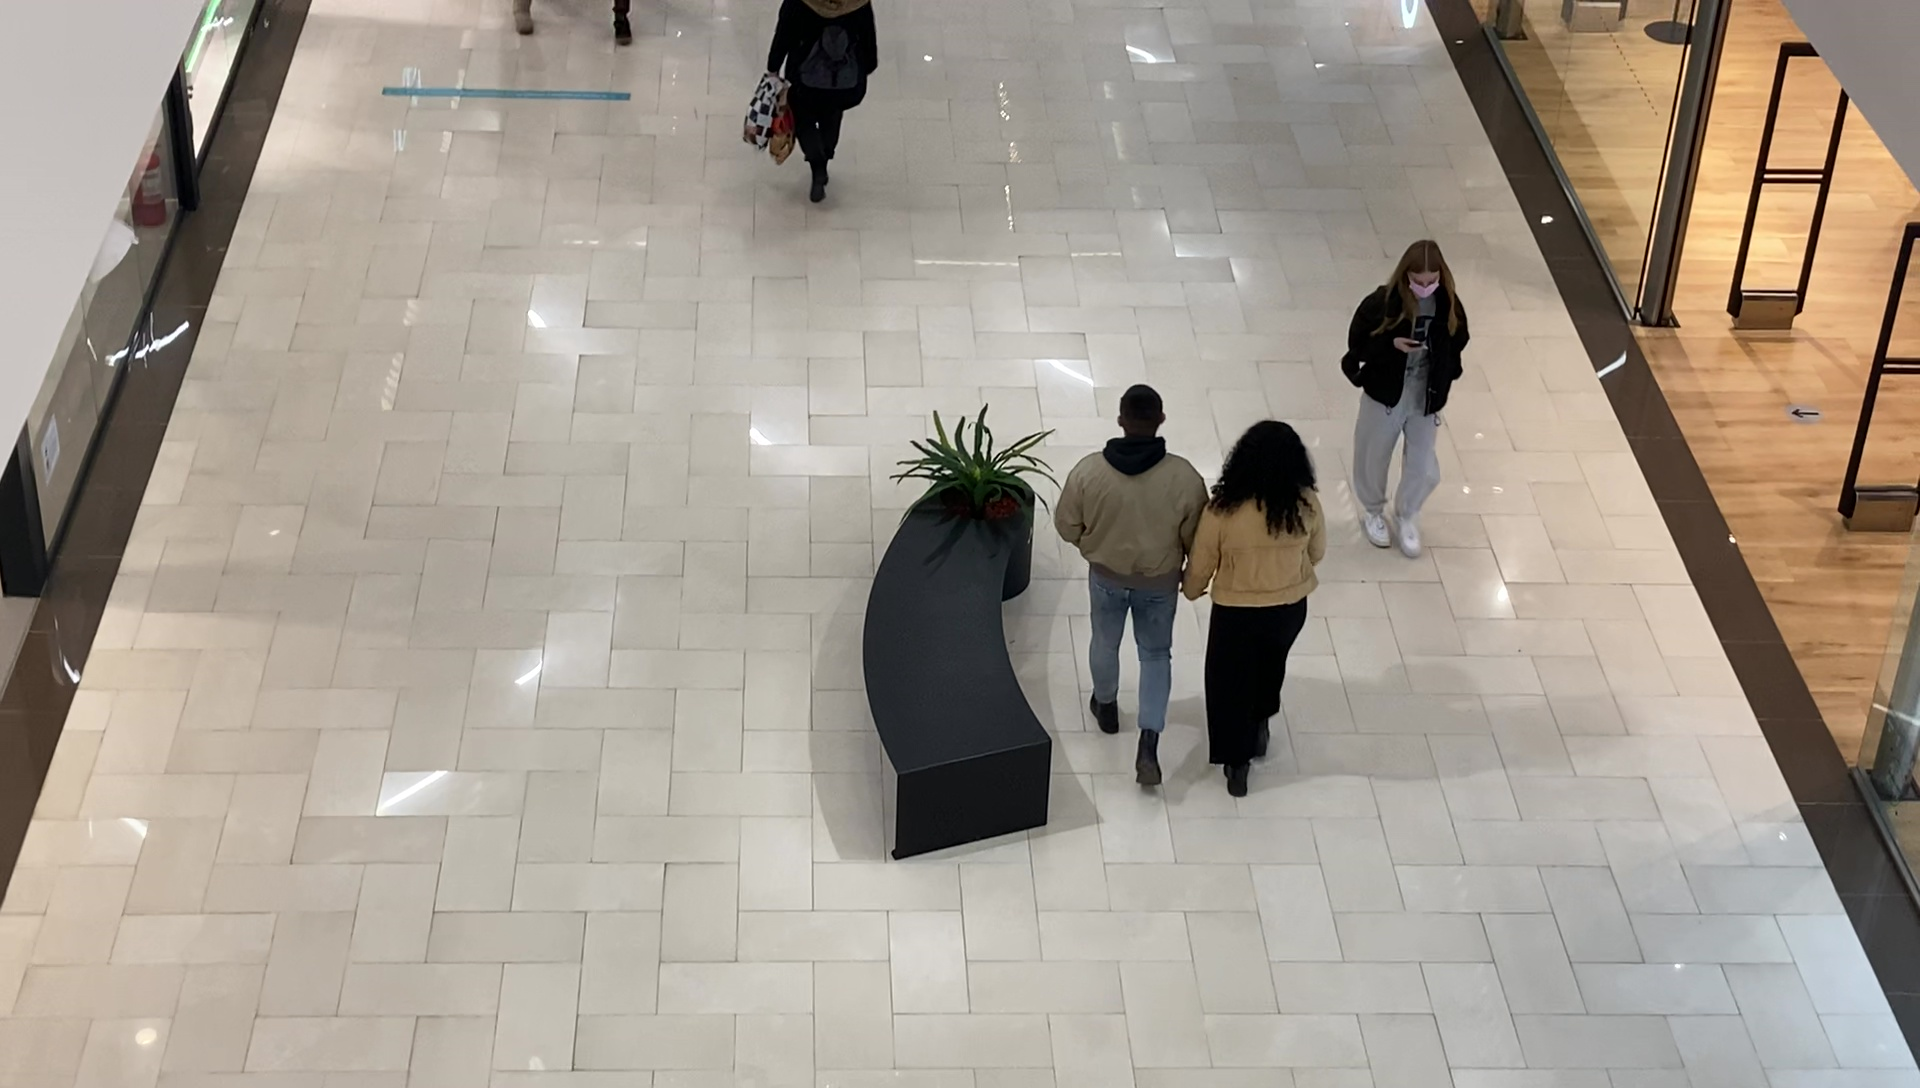person: (1054, 384, 1206, 792), (1201, 420, 1328, 804), (1347, 241, 1470, 562), (769, 3, 877, 206)
